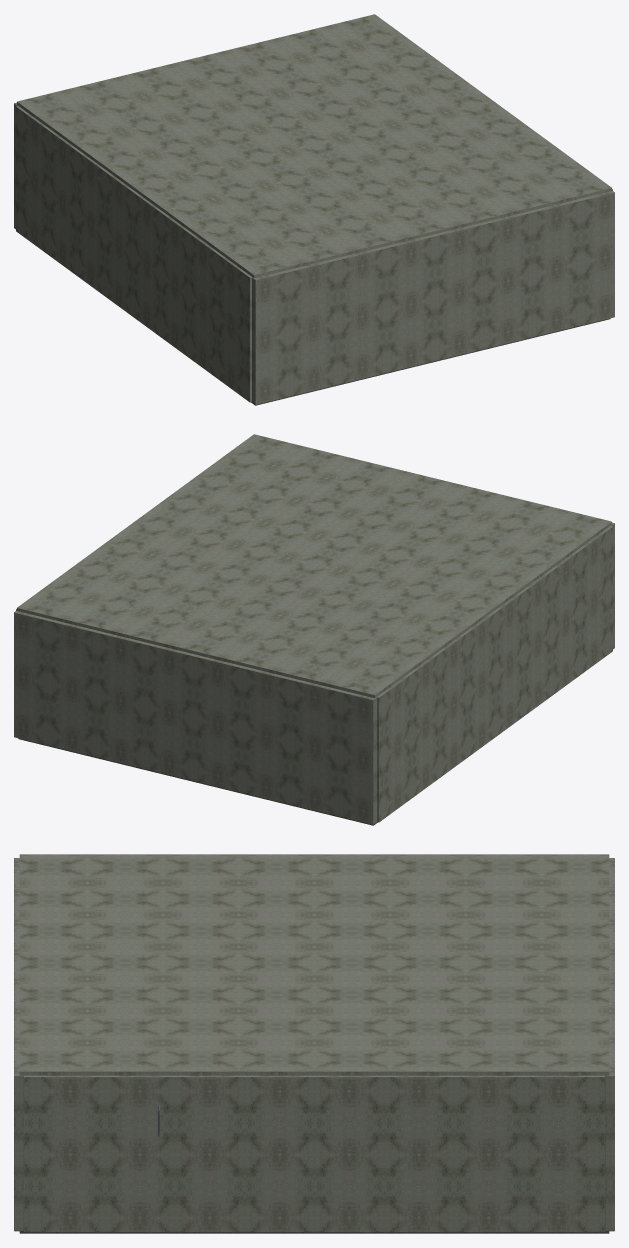
File: case3-prison.glb
3 views of the same model, one above another, from view 1: azimuth 30°, elevation 25°; view 2: azimuth 150°, elevation 25°; view 3: azimuth 270°, elevation 25° (orthographic). The views are drawn at different scales.
Visible parts, largest first — view 1: ENV_CEILING_SMOKE_STAINED, ENV_WALL_AGED; view 2: ENV_CEILING_SMOKE_STAINED, ENV_WALL_AGED; view 3: ENV_CEILING_SMOKE_STAINED, ENV_WALL_AGED, ENV_FLOOR_WORN.
Part boxes in pixels (x1=…): ENV_CEILING_SMOKE_STAINED: x1=17, y1=14, x2=611, y2=278; ENV_WALL_AGED: x1=14, y1=102, x2=614, y2=404; ENV_CEILING_SMOKE_STAINED: x1=17, y1=434, x2=611, y2=698; ENV_WALL_AGED: x1=14, y1=522, x2=614, y2=824; ENV_CEILING_SMOKE_STAINED: x1=19, y1=854, x2=609, y2=1075; ENV_WALL_AGED: x1=14, y1=858, x2=614, y2=1232; ENV_FLOOR_WORN: x1=19, y1=1231, x2=609, y2=1233.
Size of the model in its own units: 13.37 by 4.51 by 15.08.
Materials: 25 (9 with a texture image).
